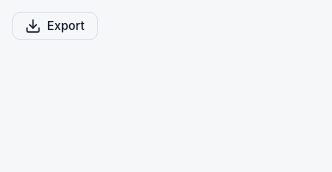
Test: StudentExportActions — role-gated dropdown items › admin sees both CSV and PDF options
Step 1. Click the button "Export" → [55, 26], box [12,12,98,40]
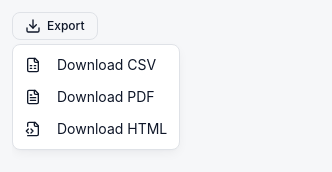
expect the menu item "Download CSV" is shown: met, box [25,56,156,73]
expect the menu item "Download PDF" is shown: met, box [25,88,155,105]
